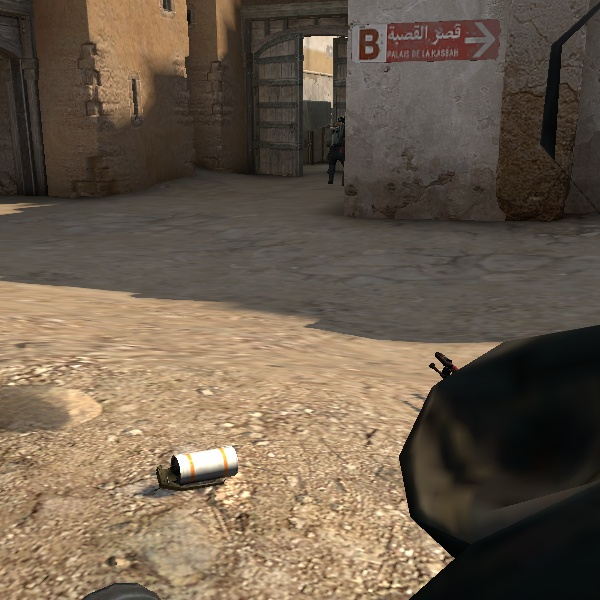ct_body: (316, 110, 348, 186)
ct_head: (332, 112, 348, 127)
